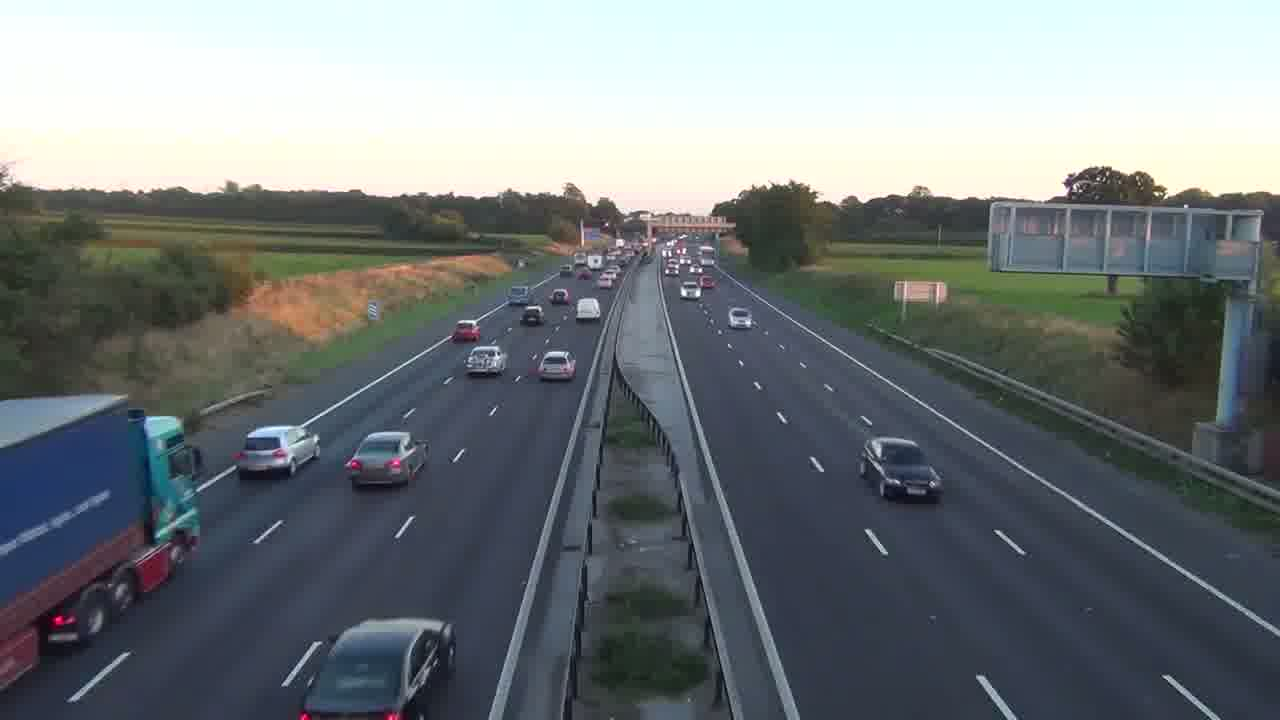car: (297, 617, 457, 718), (857, 435, 944, 503), (343, 430, 430, 488), (235, 424, 321, 479), (465, 344, 507, 377), (538, 349, 576, 382), (450, 320, 481, 343), (575, 296, 601, 321), (728, 306, 753, 329), (520, 305, 545, 325)
truck: (1, 394, 203, 690)
